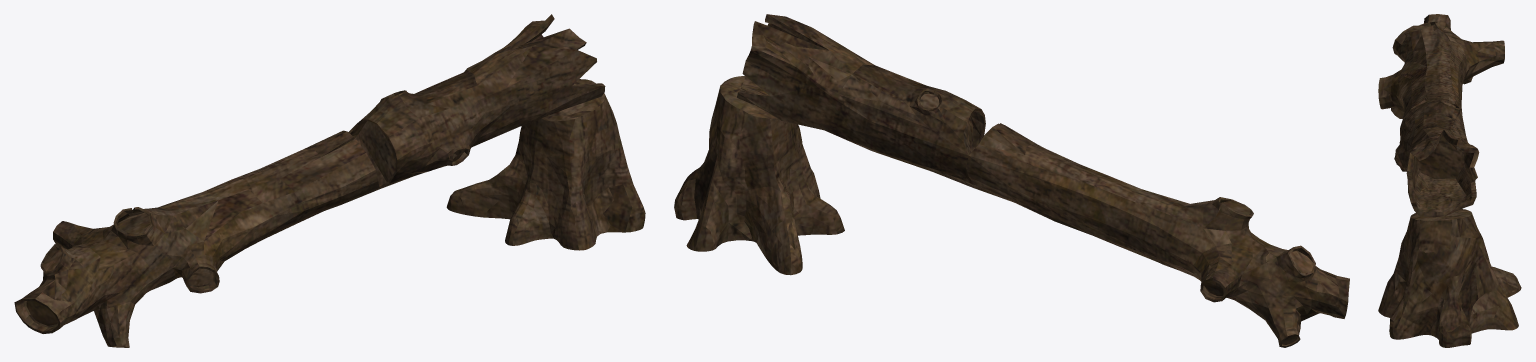
File: tree_trunkfinal.obj
3 renders of one model, left to right at view 1: azimuth 30°, elevation 25°; view 2: azimuth 150°, elevation 25°; view 3: azimuth 270°, elevation 25°, orthographic. The views are drawn at different scales.
Parts seen in each view (by area): view 1: LOG_03; view 2: LOG_03; view 3: LOG_03.
Part boxes in pixels (bbox=[...]): LOG_03: bbox=[14, 14, 645, 347]; LOG_03: bbox=[674, 14, 1349, 347]; LOG_03: bbox=[1378, 14, 1521, 347].
Size of the model in its own units: 1.4 by 0.426 by 0.3148.
Materials: 1 (1 with a texture image).
